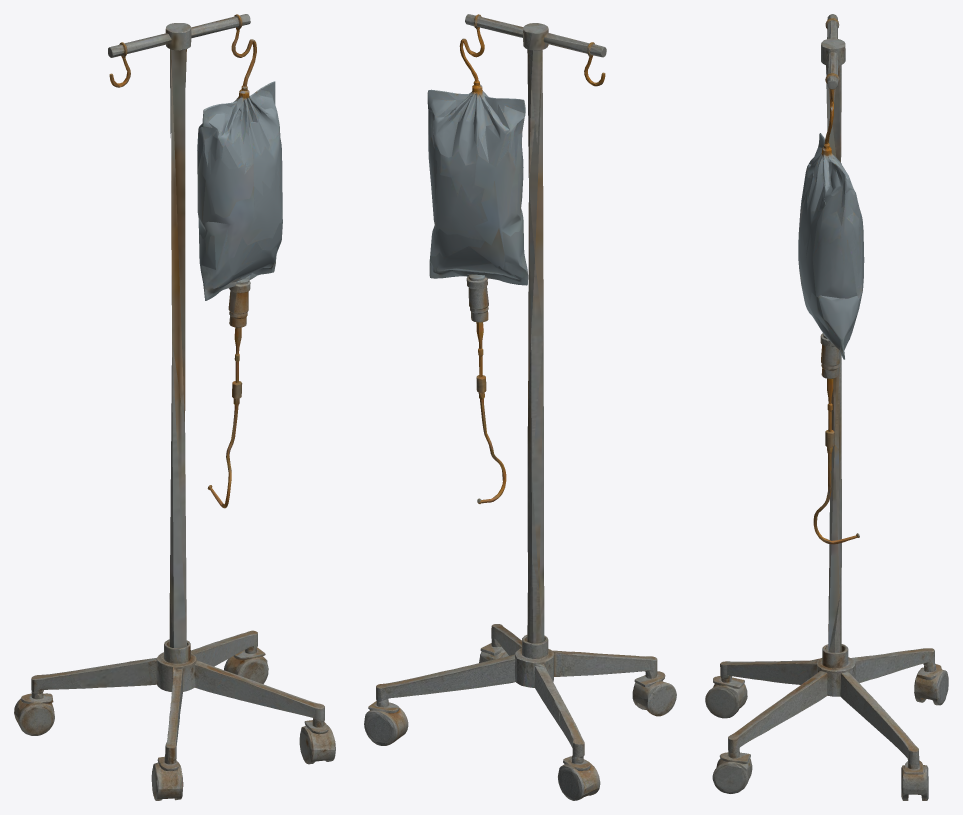
The model's file is asta_flebo_N.glb.
3 renders of one model, left to right at view 1: azimuth 30°, elevation 25°; view 2: azimuth 150°, elevation 25°; view 3: azimuth 270°, elevation 25°, orthographic.
Visible parts, largest first — view 1: Mesh_0; view 2: Mesh_0; view 3: Mesh_0.
Part boxes in pixels (bbox=[...]): Mesh_0: bbox=[14, 14, 335, 800]; Mesh_0: bbox=[364, 14, 676, 800]; Mesh_0: bbox=[705, 14, 948, 800].
Size of the model in its own units: 0.6606 by 1.9 by 0.596.
Materials: 1 (1 with a texture image).
